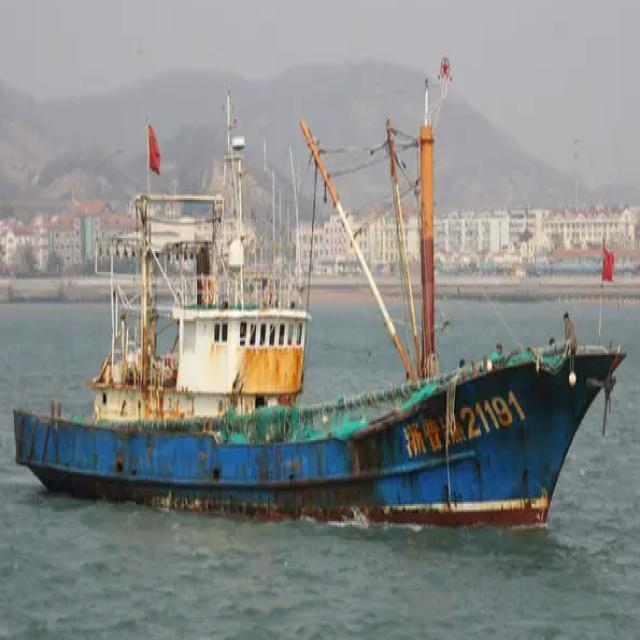fishing boat: (12, 93, 620, 535)
